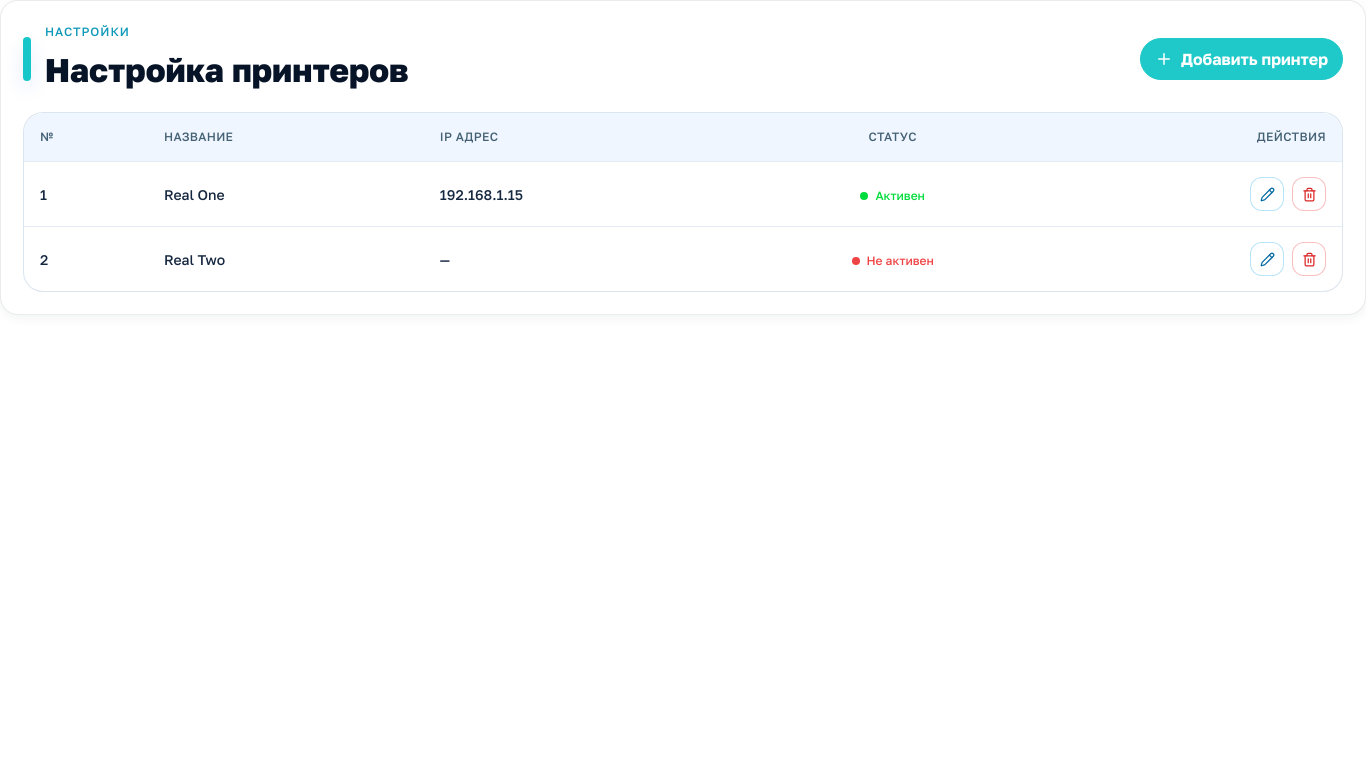
Test: SettingsPrintersPage (simplified V2) › creates with canonical defaults and truthful status handling
Expected: the text "Real One" is shown, x1=148 y1=161 x2=424 y2=226
Click the button "Добавить принтер": x=1241, y=59 x1=1140 y1=38 x2=1343 y2=80
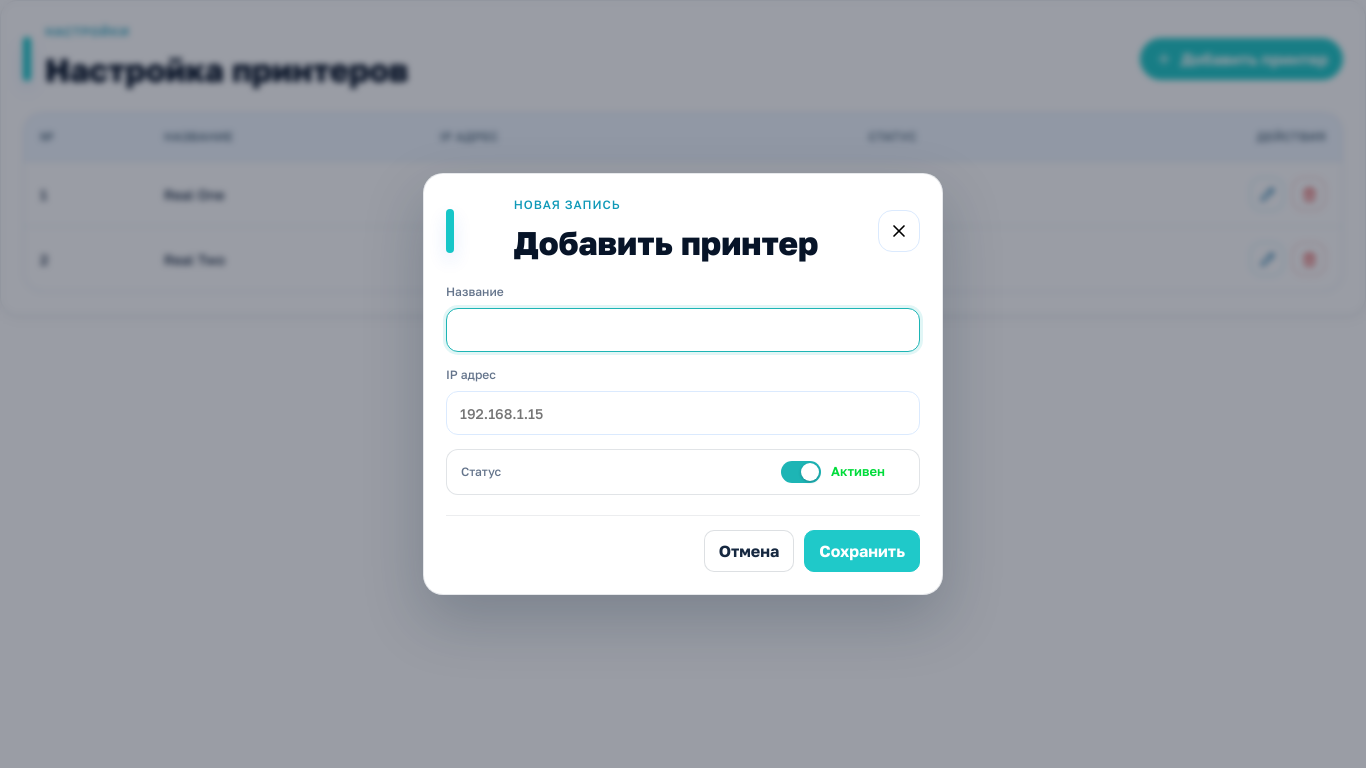
In the field labelled "Название": x=683, y=330 x1=446 y1=308 x2=920 y2=352, type "New One"
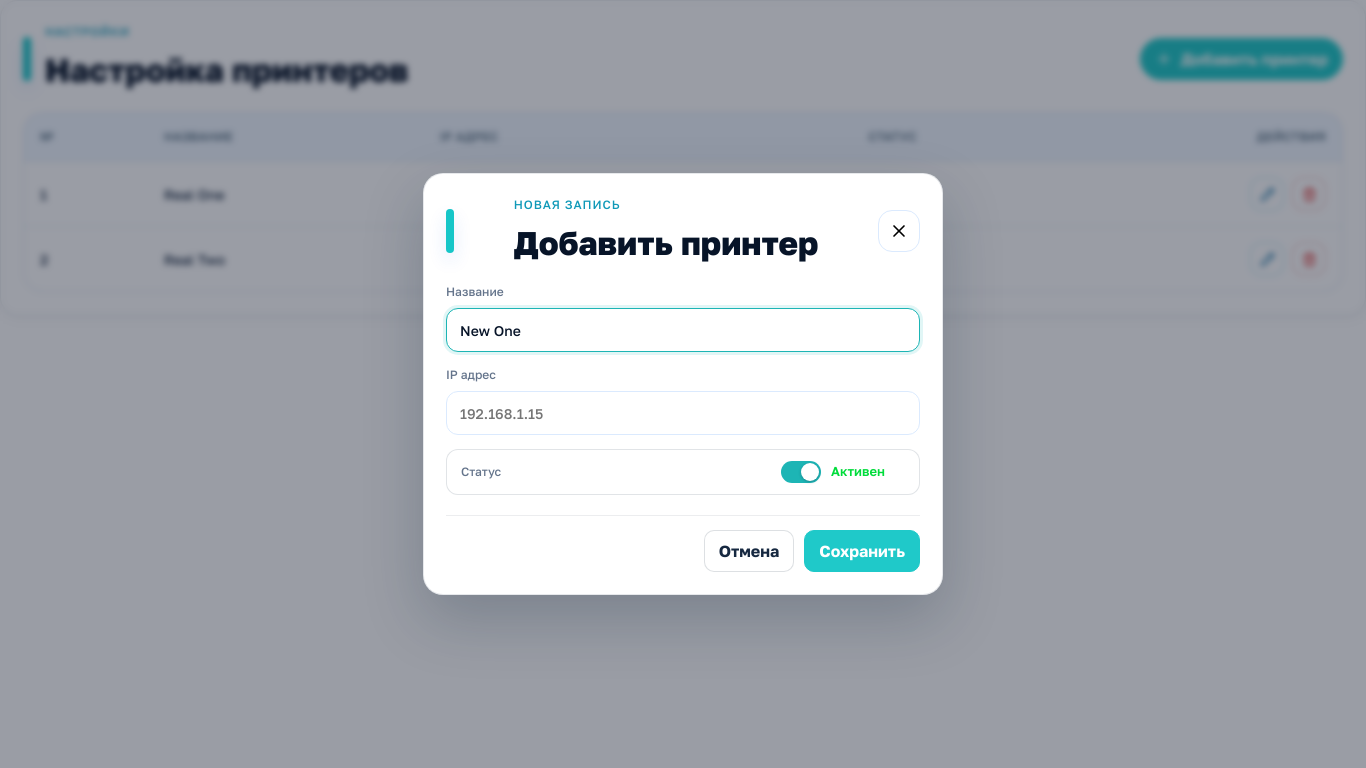
In the field labelled "IP адрес": x=683, y=413 x1=446 y1=391 x2=920 y2=435, type "192.168.1.99"
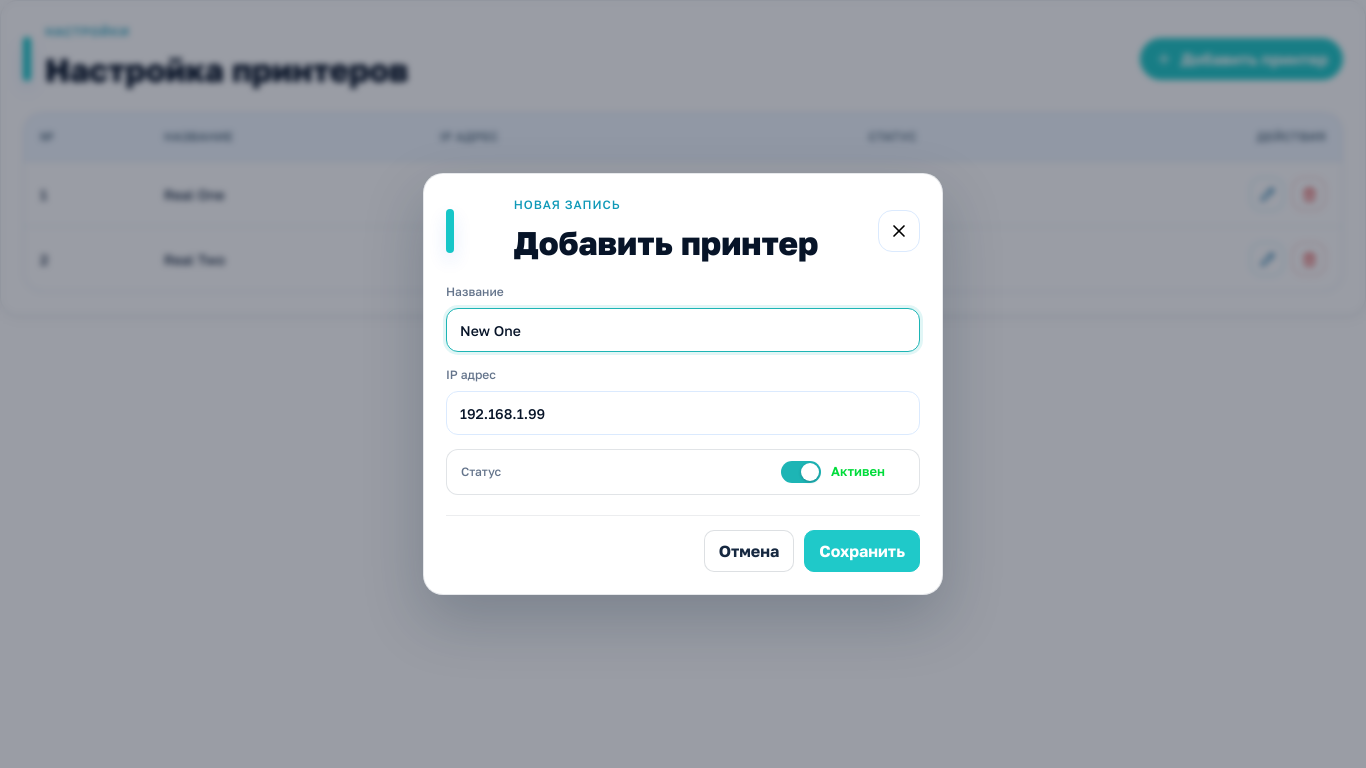
Click the button "Сохранить": x=862, y=551 x1=804 y1=530 x2=920 y2=572
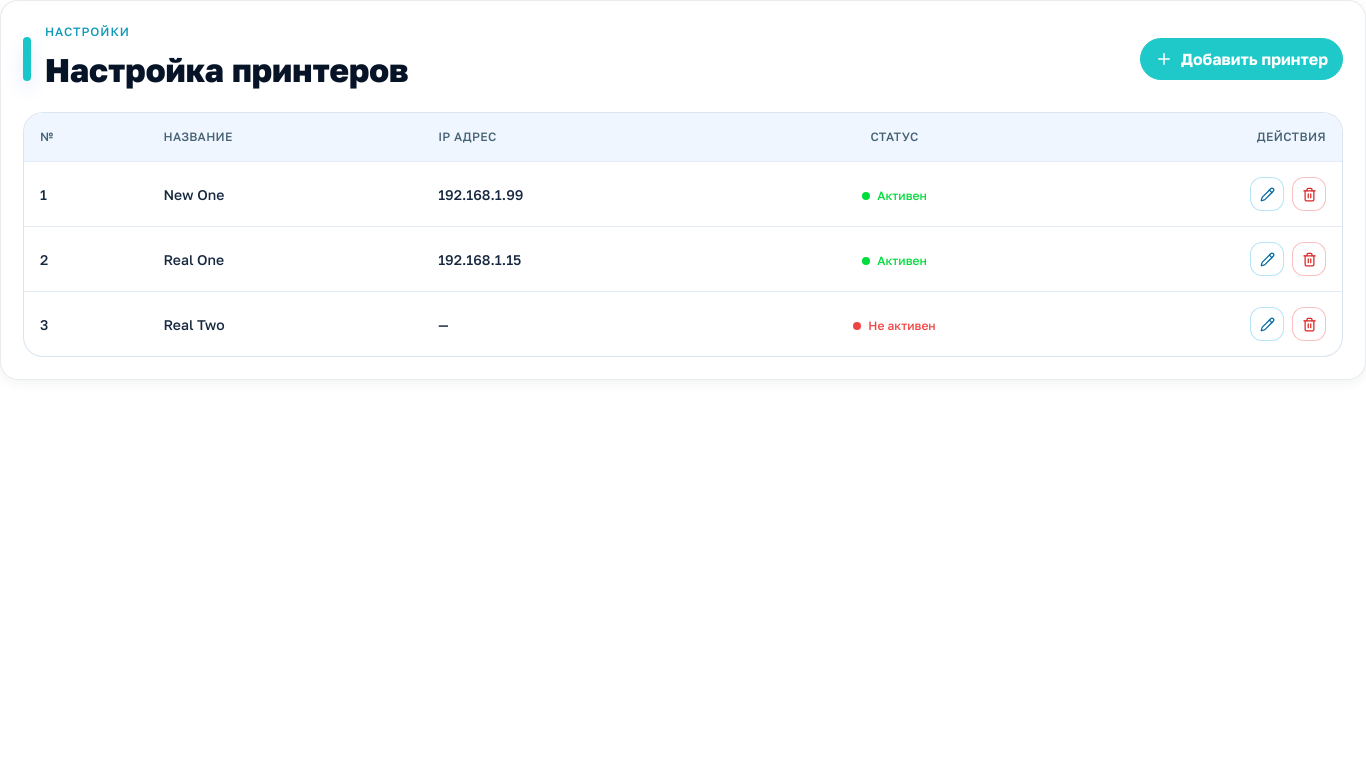
Now the cell "Активен" in the row of "New One" is shown, box x1=877 y1=188 x2=927 y2=203
Now the text "New One" is shown, box x1=147 y1=161 x2=422 y2=226
